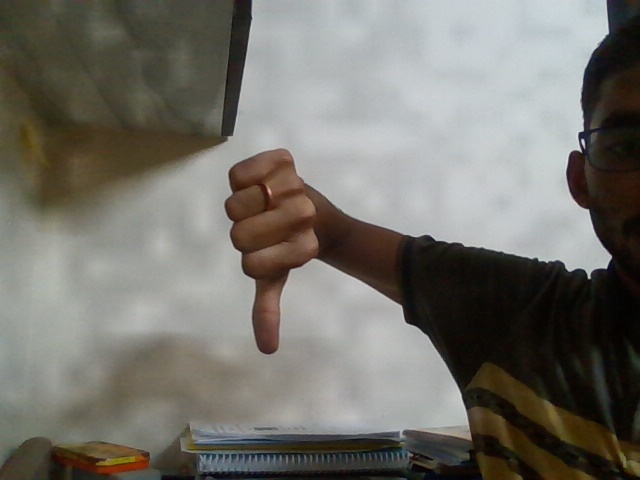No: (197, 130, 349, 370)
